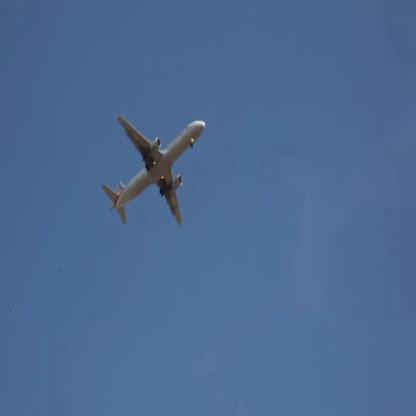CIV_Plane: (102, 117, 206, 227)
